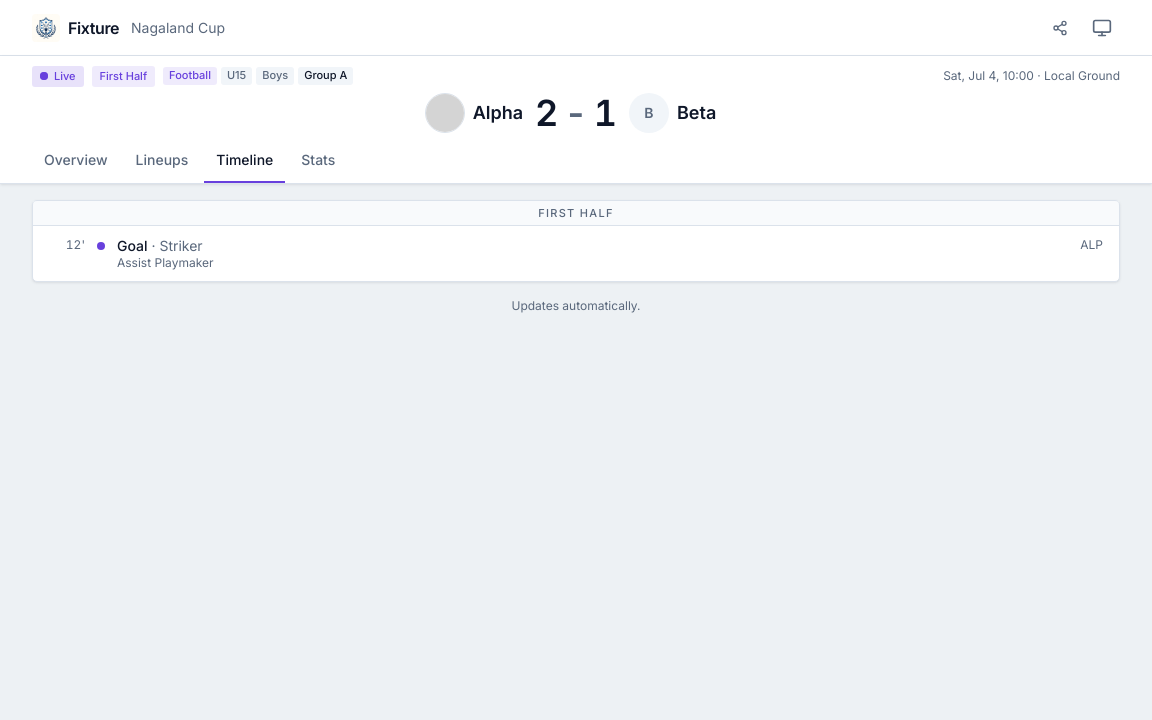
Test: LiveViewerPage › deep links a tab via ?tab= and switches tabs on click
The width and height of the screenshot is (1152, 720).
Expected: the panel with test id "hub-panel-timeline" is shown, [32,200,1120,313]
Expected: the list item "First half" is shown, [33,200,1119,225]
Click the tab with test id "hub-tab-overview". click: (76,160)
box: [32,138,120,182]
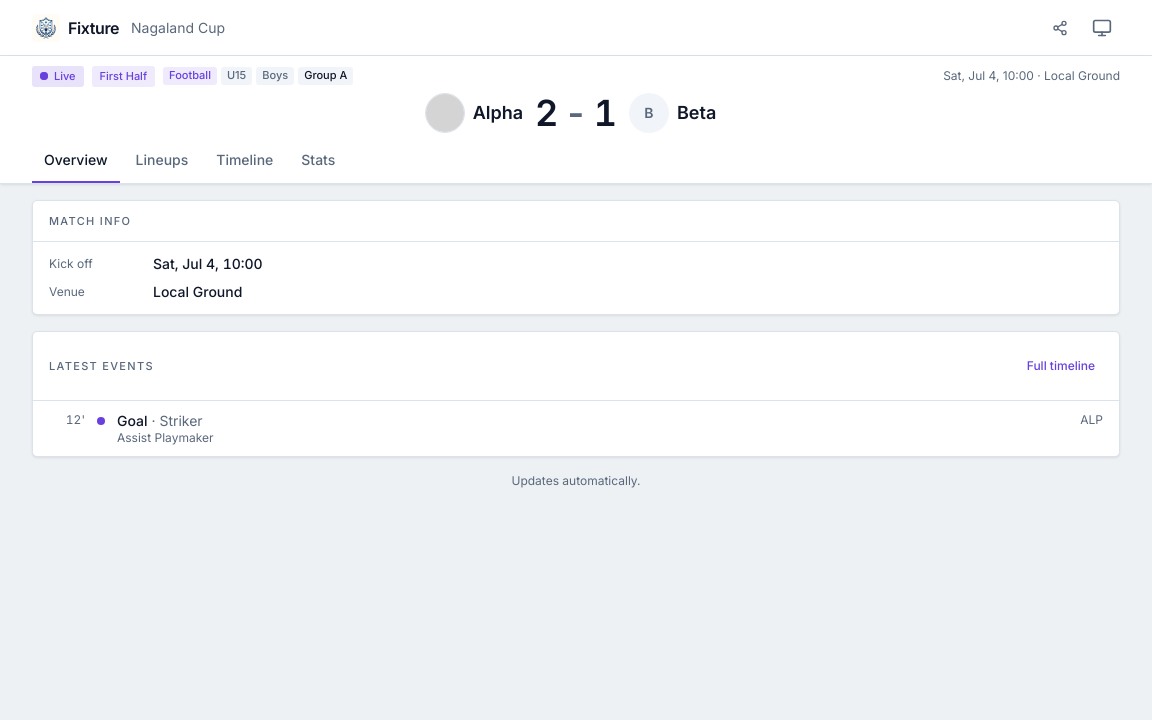
Expected: the panel with test id "hub-panel-overview" is shown, [32,200,1120,488]
